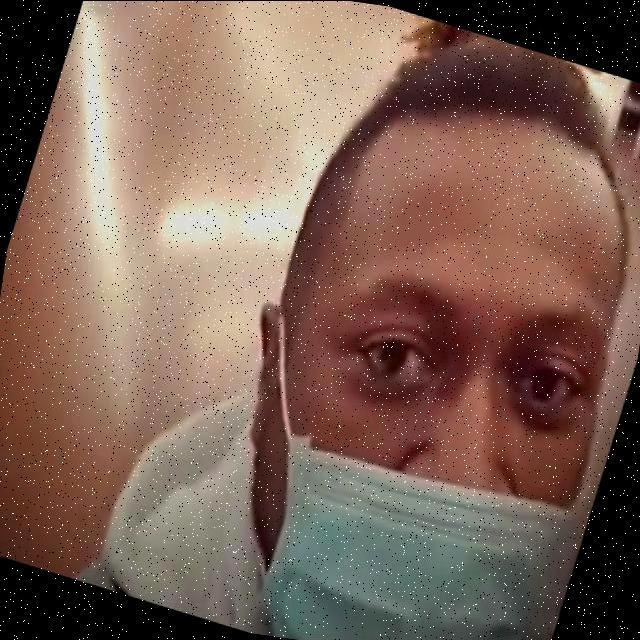mask: (260, 492, 567, 640)
no_gloves: (308, 26, 626, 250)
